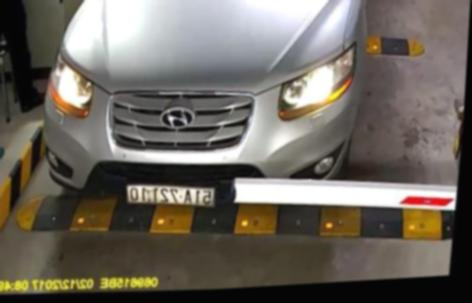License_Plate: (105, 168, 227, 222)
